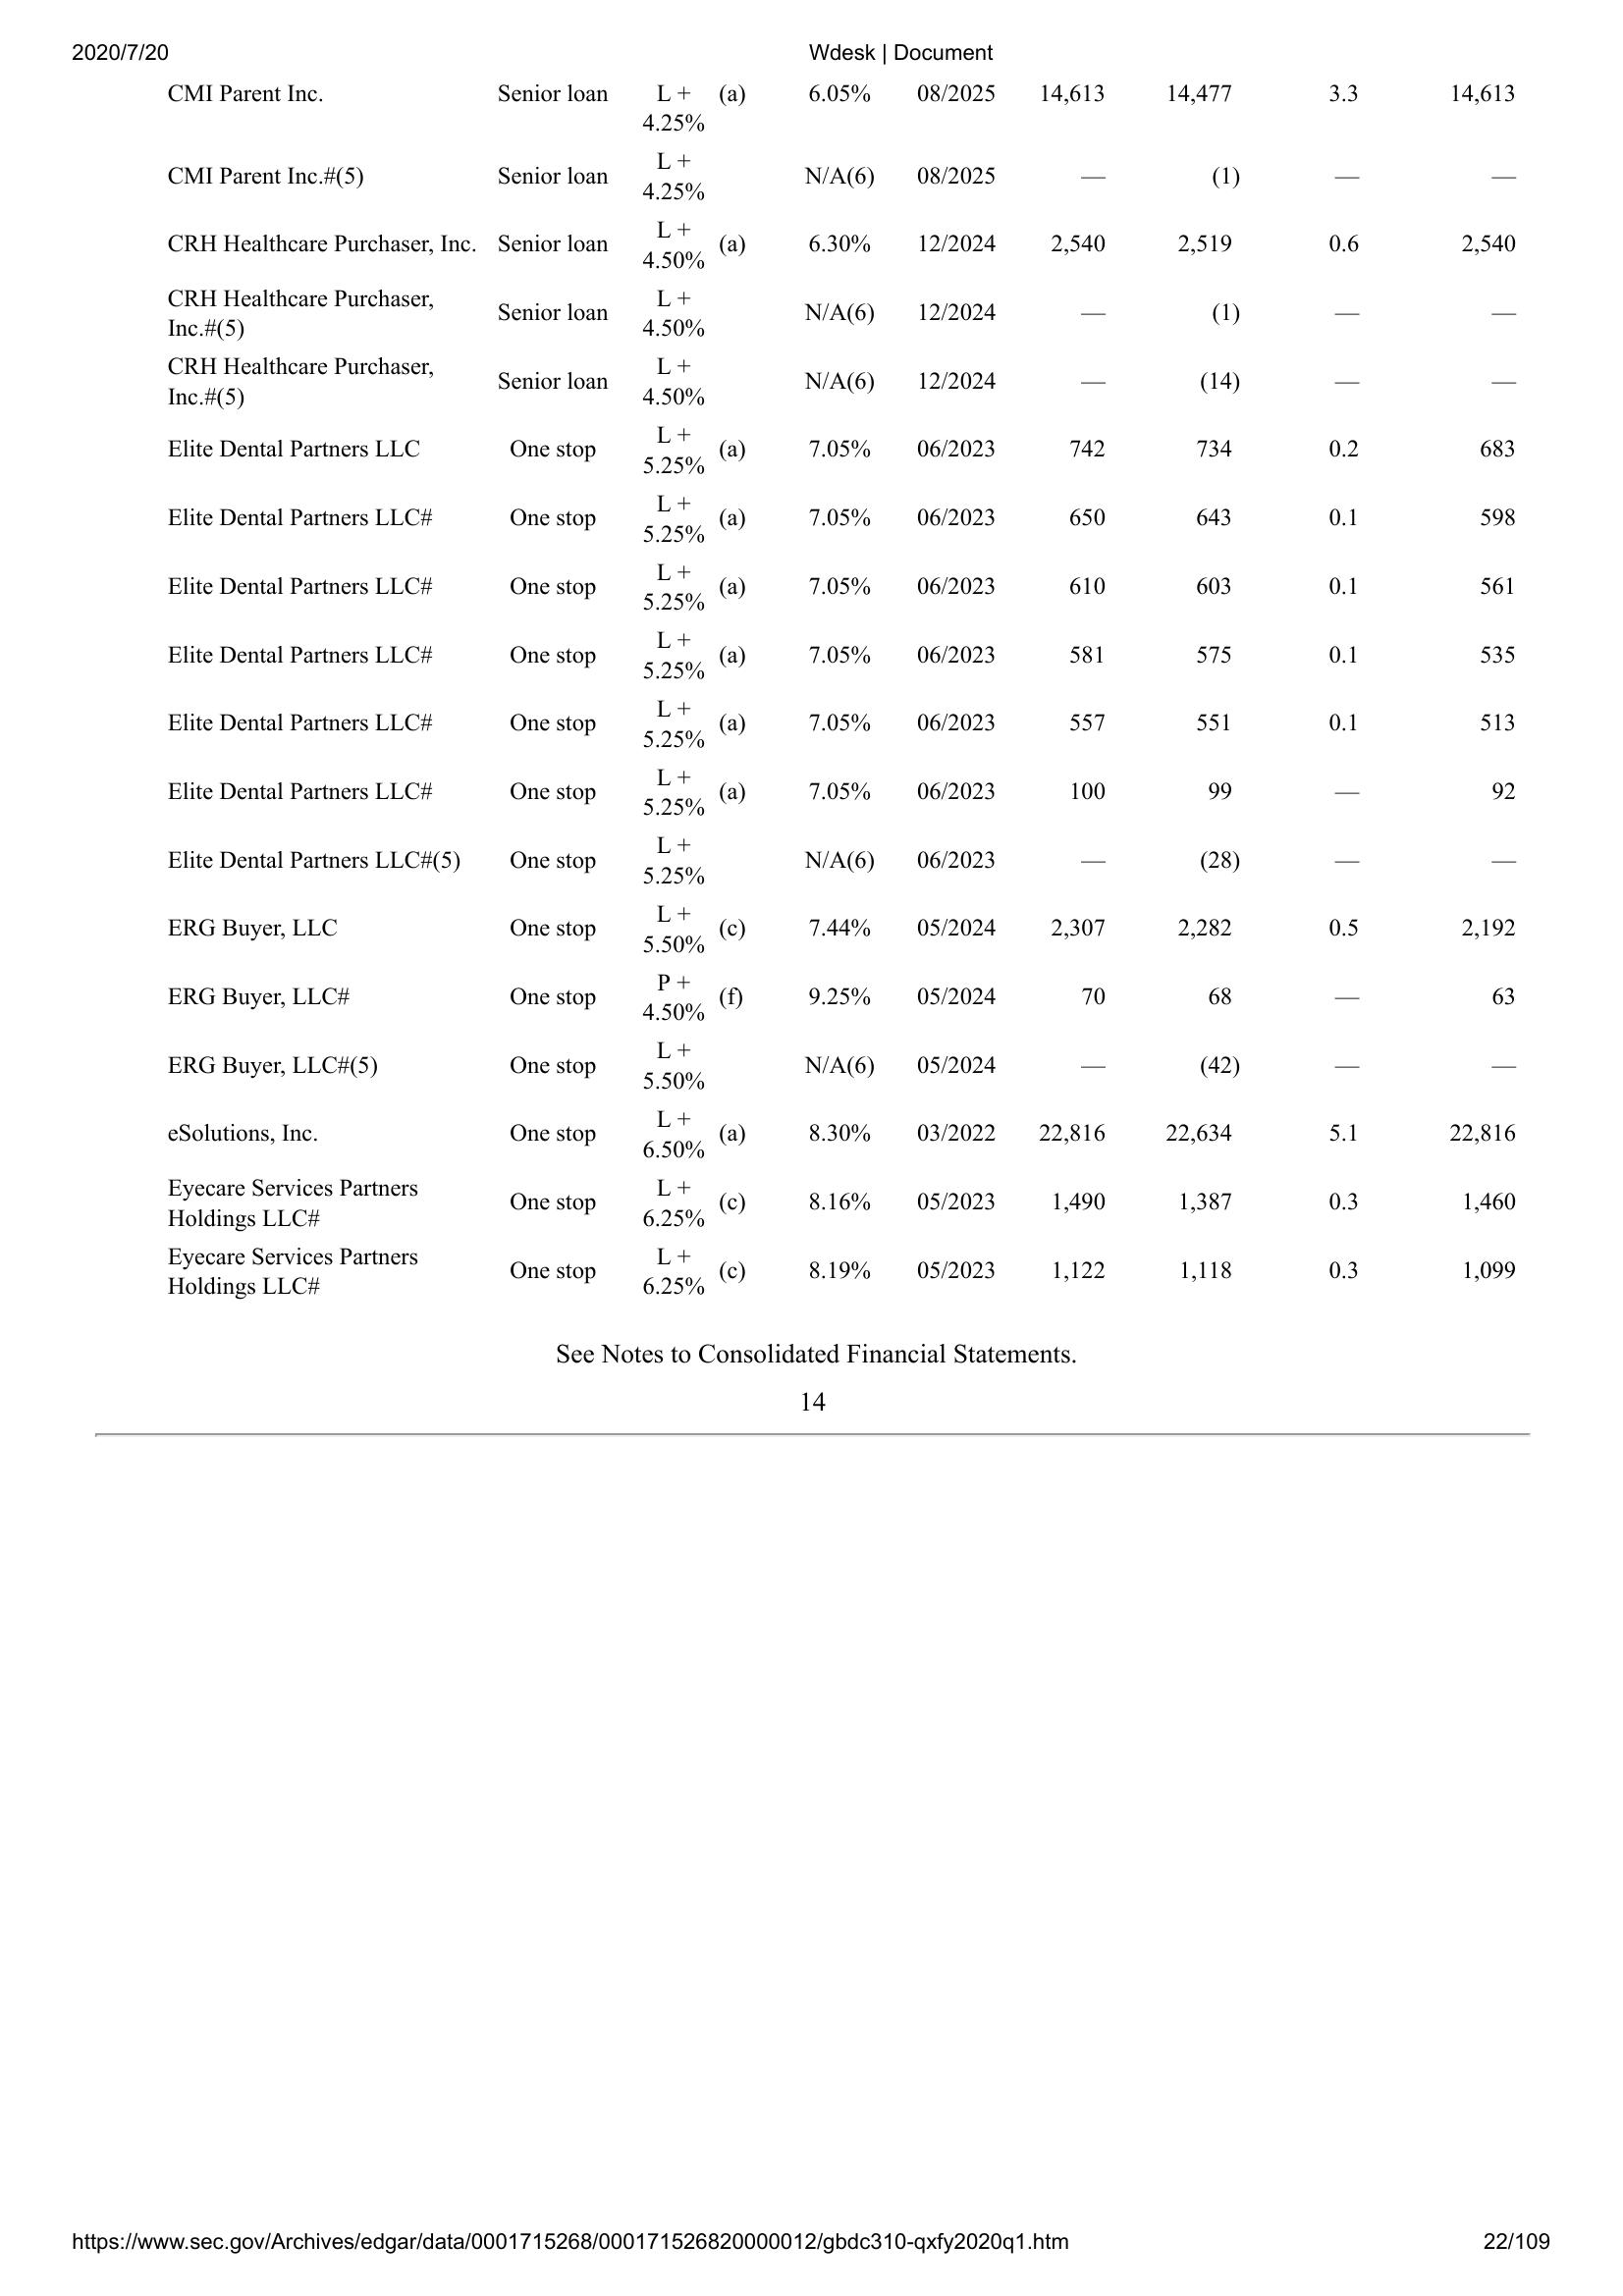table: (160, 74, 1530, 1302)
